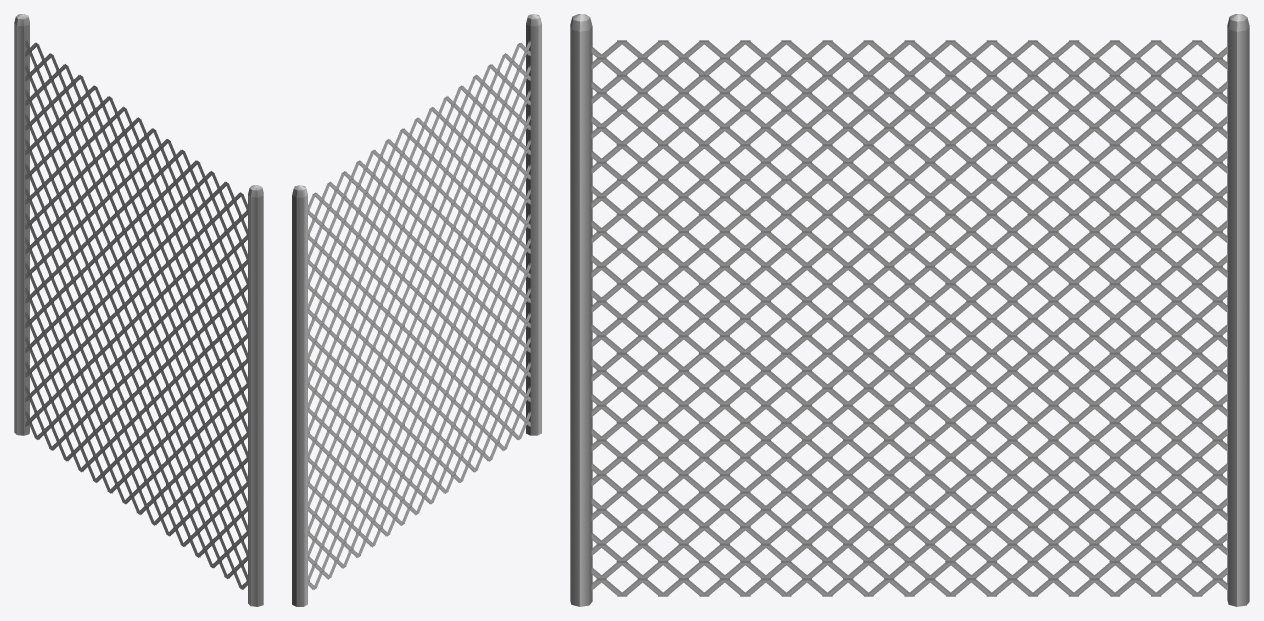
Rendered from MetalEndFenceTall.fbx.
3 views of the same model, side by side, from view 1: azimuth 30°, elevation 25°; view 2: azimuth 150°, elevation 25°; view 3: azimuth 270°, elevation 25° (orthographic). The views are drawn at different scales.
Visible parts, largest first — view 1: Plane#2, Cylinder#2; view 2: Plane#2, Cylinder#2; view 3: Plane#2, Cylinder#2.
Boxes of the visible parts, box(x1,y1,x2,y2) form: Plane#2: box(25, 40, 247, 589); Cylinder#2: box(14, 14, 263, 606); Plane#2: box(308, 41, 530, 589); Cylinder#2: box(292, 14, 541, 606); Plane#2: box(591, 40, 1227, 596); Cylinder#2: box(570, 14, 1249, 606).
Size of the model in its own units: 0.1363 by 3.95 by 4.14.
2 materials, 2 textured.
